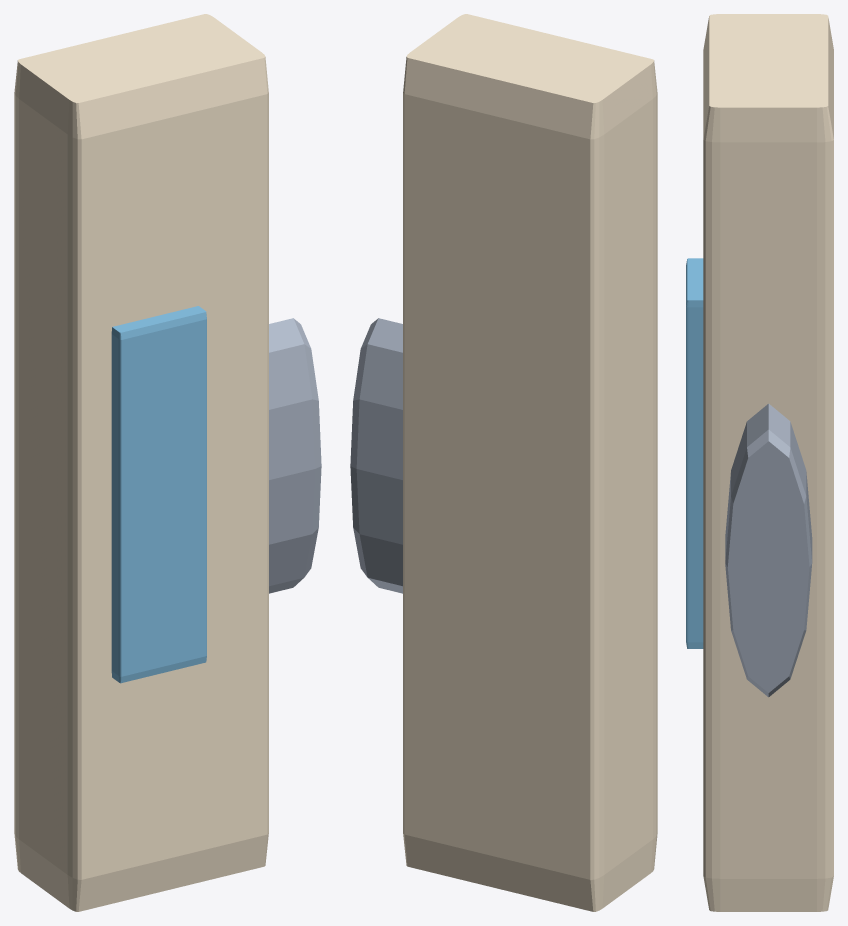
File: pet_thermometer.glb
The picture shows the model from 3 angles, left to right: view 1: azimuth 30°, elevation 25°; view 2: azimuth 150°, elevation 25°; view 3: azimuth 270°, elevation 25°; orthographic projection.
Parts seen in each view (by area): view 1: model; view 2: model; view 3: model.
Boxes of the visible parts, left/top/right/bottom form: model: left=14, top=14, right=321, bottom=911; model: left=350, top=14, right=657, bottom=911; model: left=686, top=14, right=833, bottom=911.
Size of the model in its own units: 0.1 by 0.3 by 0.05.
